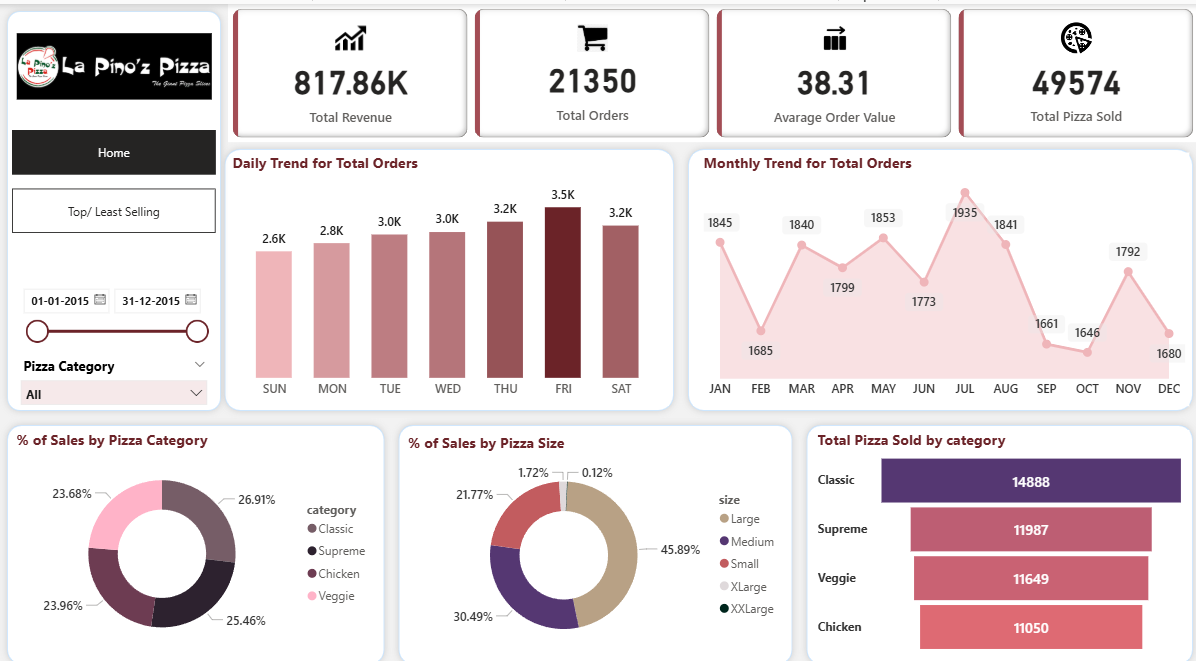

The page's visual inventory and layout, read from the dashboard file:
{"tool":"powerbi","page":{"name":"Home","canvas":[1350,750],"ordinal":0},"visuals":[{"type":"cardVisual","fields":{"Data":["pizzas.Total Revenue","orders.Total Orders","orders.Avarage Order Value","order_details.Total Pizza Sold"]},"box":[256.4,0,1093,155.2],"z":0},{"type":"shape","box":[244.6,155.2,521.2,310.4],"z":1000},{"type":"columnChart","title":"Daily Trend for Total Orders","fields":{"Y":["orders.Total Orders"],"Category":["orders.Order day"]},"box":[256.4,167,494.2,285.1],"z":2000},{"type":"shape","box":[0,0,256.4,465.5],"z":3000},{"type":"image","box":[13.5,13.5,229.4,113],"z":4000},{"type":"shape","box":[765.8,155.2,583.6,310.4],"z":5000},{"type":"areaChart","title":"Monthly Trend for Total Orders","fields":{"Category":["orders.Order month"],"Y":["orders.Total Orders"]},"box":[786,167,551.5,285.1],"z":6000},{"type":"shape","box":[440.2,465.5,458.8,285.1],"z":7000},{"type":"shape","box":[899,465.5,450.3,285.1],"z":8000},{"type":"shape","box":[0,465.5,440.2,285.1],"z":9000},{"type":"donutChart","title":"% of Sales by Pizza Category","fields":{"Category":["pizza_types.category"],"Y":["pizzas.Total Revenue"]},"box":[13.5,479,411.6,256.4],"z":10000},{"type":"donutChart","title":"% of Sales by Pizza Size","fields":{"Y":["pizzas.Total Revenue"],"Category":["pizzas.size"]},"box":[453.7,482.4,431.8,253],"z":11000},{"type":"funnel","fields":{"Category":["pizza_types.category"],"Y":["order_details.Total Pizza Sold"]},"box":[914.2,479,423.4,256.4],"z":12000},{"type":"slicer","fields":{"Values":["pizza_types.category"]},"box":[13.5,391.3,229.4,60.7],"z":13000},{"type":"slicer","fields":{"Values":["orders.order_date"]},"box":[13.5,310.4,229.4,75.9],"z":14000},{"type":"pageNavigator","box":[13.5,141.7,229.4,50.6],"z":15000},{"type":"pageNavigator","box":[13.5,207.5,229.4,50.6],"z":16000}]}

Visuals, with their boxes in screenshot pixels (x1, y1, x2, y2), scaled from the page's 1350x750 canvas onto the 1196x661 screenshot:
cardVisual - pizzas.Total Revenue x orders.Total Orders: crop(227, 0, 1195, 137)
shape: crop(217, 137, 678, 410)
"Daily Trend for Total Orders" columnChart: crop(227, 147, 665, 398)
shape: crop(0, 0, 227, 410)
image: crop(12, 12, 215, 111)
shape: crop(678, 137, 1195, 410)
"Monthly Trend for Total Orders" areaChart: crop(696, 147, 1185, 398)
shape: crop(390, 410, 796, 660)
shape: crop(796, 410, 1195, 660)
shape: crop(0, 410, 390, 660)
"% of Sales by Pizza Category" donutChart: crop(12, 422, 377, 648)
"% of Sales by Pizza Size" donutChart: crop(402, 425, 784, 648)
funnel - pizza_types.category x order_details.Total Pizza Sold: crop(810, 422, 1185, 648)
slicer - pizza_types.category: crop(12, 345, 215, 398)
slicer - orders.order_date: crop(12, 274, 215, 340)
pageNavigator: crop(12, 125, 215, 169)
pageNavigator: crop(12, 183, 215, 227)
